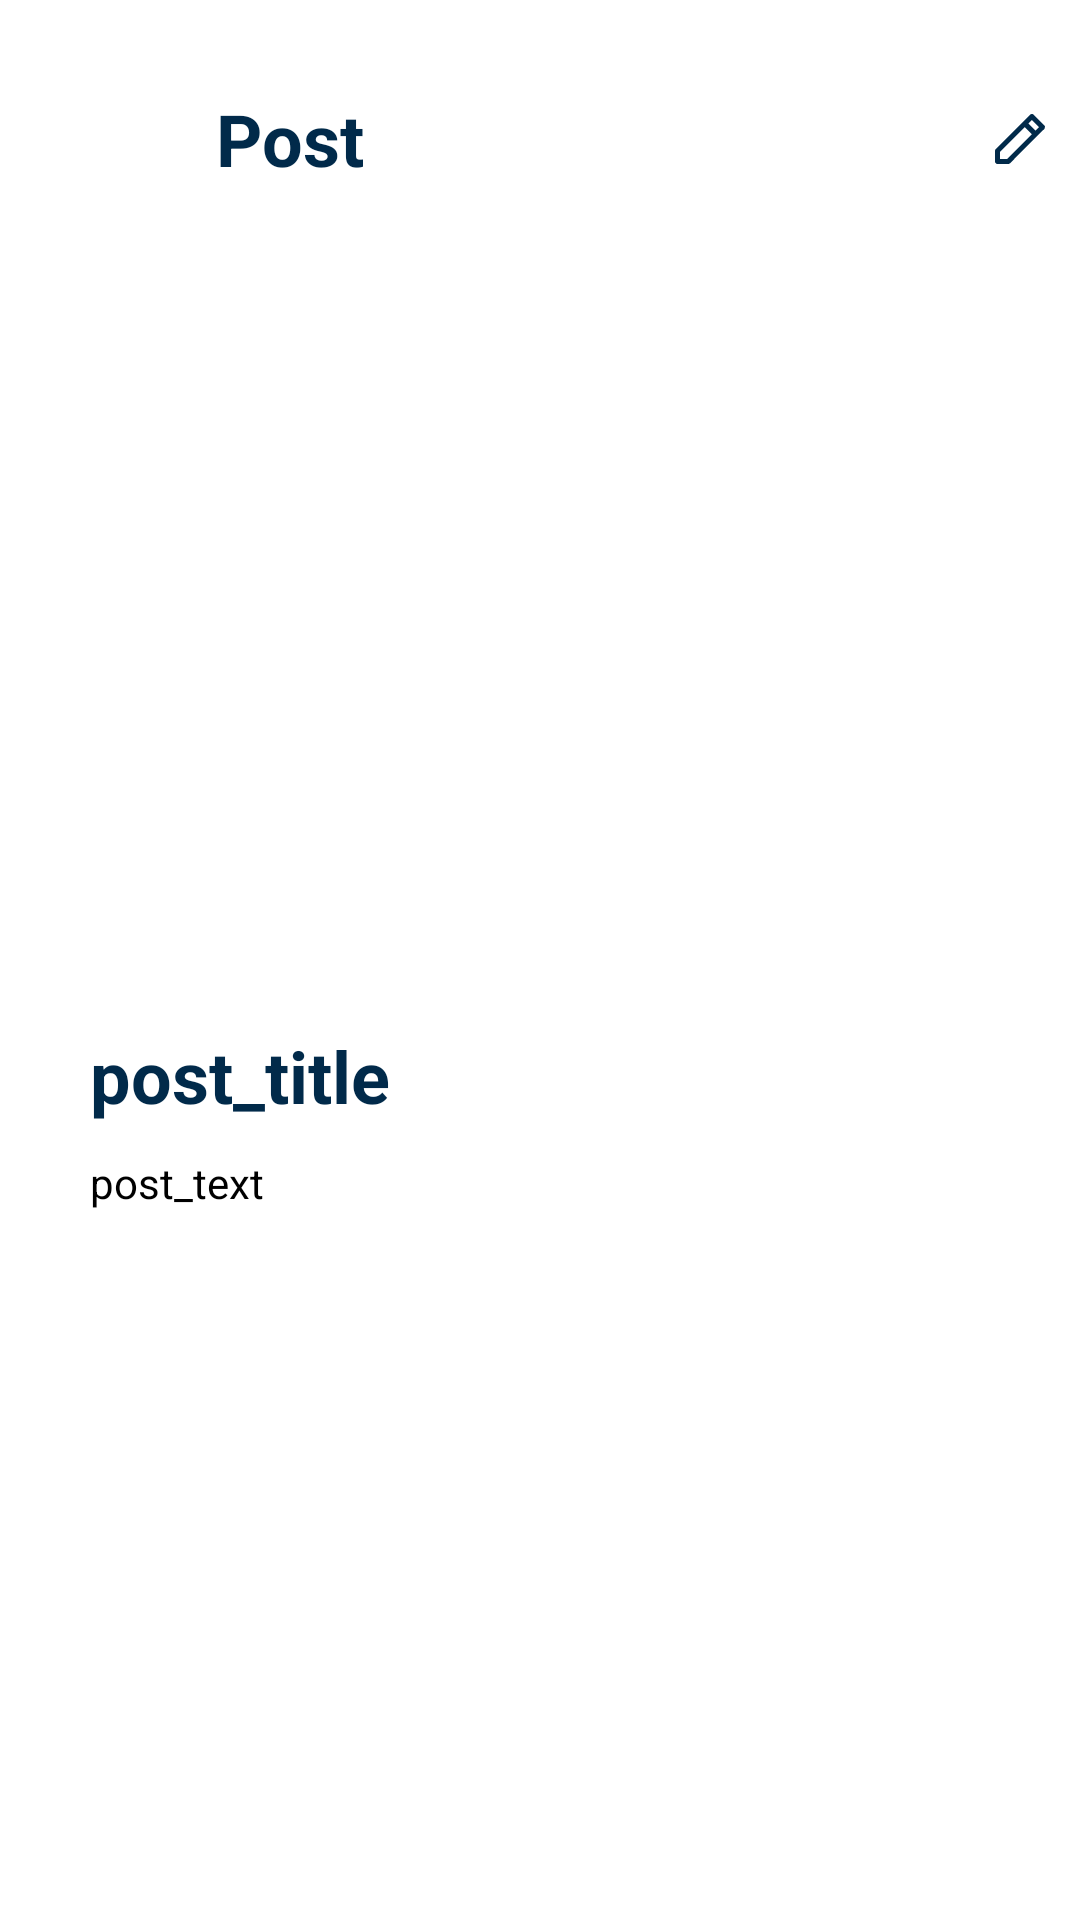

Where to tap for icons on this 1080*1920 app screen, as (x=x, y=y):
post pencil: (x=1020, y=139)
